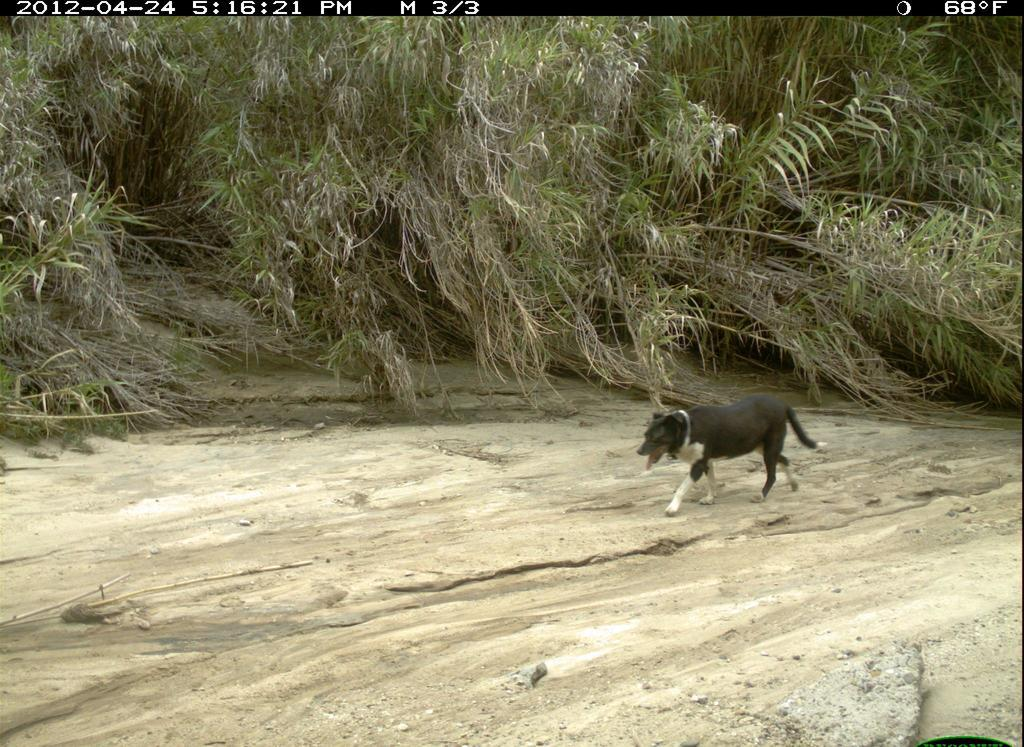dog: (629, 390, 863, 524)
